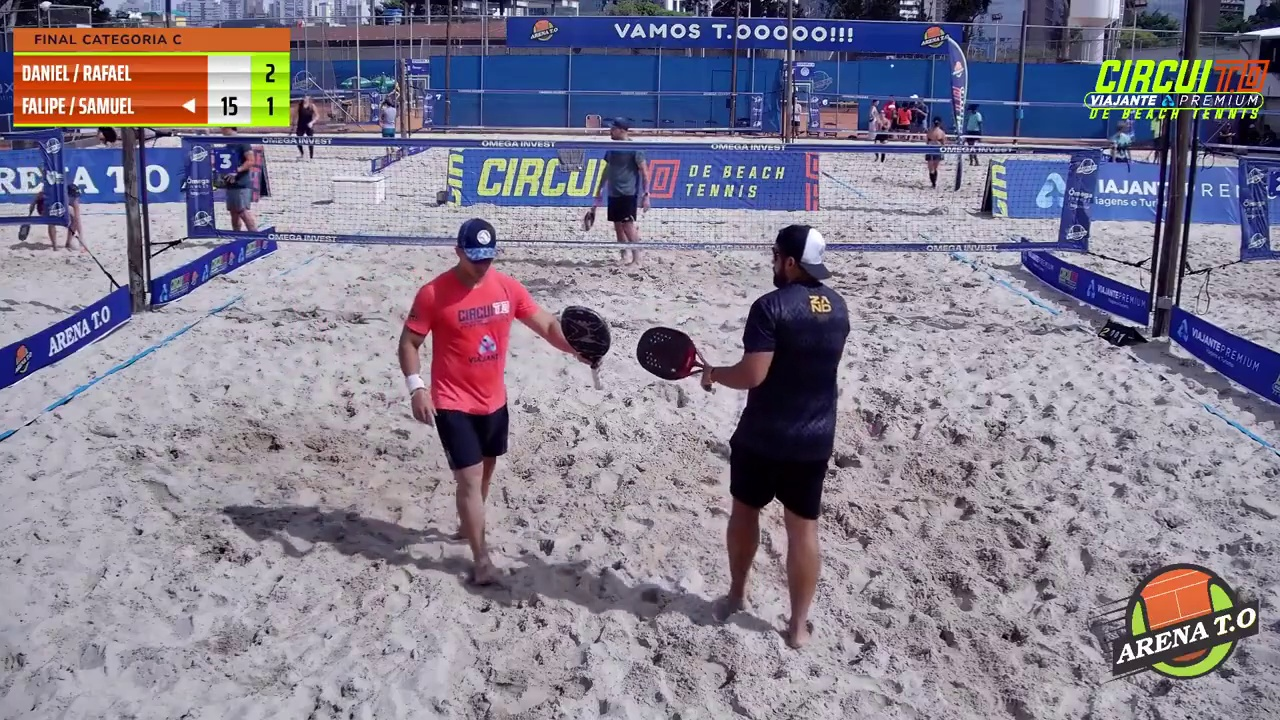court_line: (646, 0, 799, 475)
